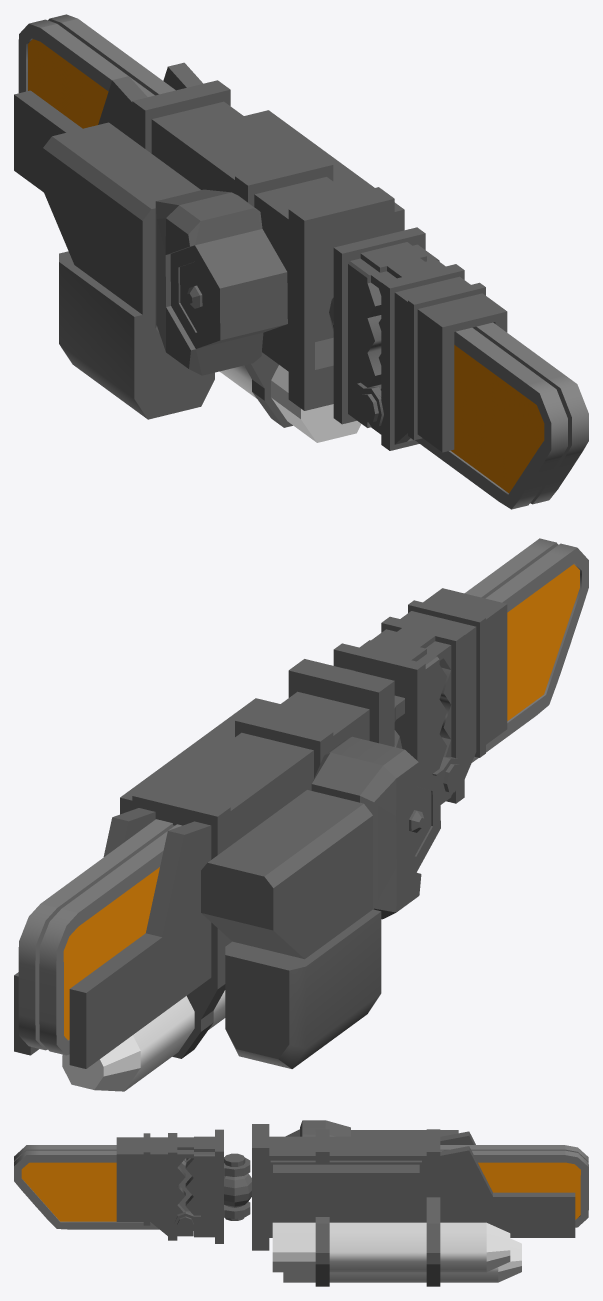
The model's file is ChainsawRevisedUV4.fbx.
The picture shows the model from 3 angles, top to bottom: view 1: azimuth 30°, elevation 25°; view 2: azimuth 150°, elevation 25°; view 3: azimuth 270°, elevation 25°; orthographic projection. The views are drawn at different scales.
Visible parts, largest first — view 1: Engine, Chassis, Break_Sheath, WristCasing, Chain_Tip (×2), BladeExt (×2), Chain_Top (×4), BladeTip, Tanks, ChainBack, Chain_Bottom, BladeBack; view 2: Engine, Chassis, Break_Sheath, WristCasing, ChainBack (×2), BladeExt (×2), Tanks, Chain_Top (×4), BladeTip, Chain_Tip (×2), BladeBack; view 3: Chassis, Tanks, Break_Sheath, WristCasing, BladeExt (×2), BladeTip, Chain_Tip (×2), Chain_Top (×3), Engine, Wrist_Joint, ChainBack, Chain_Bottom (+1 smaller).
Boxes of the visible parts, x1,y1,x2,y2 form: Engine: (43, 122, 287, 419); Chassis: (14, 62, 404, 427); Break_Sheath: (369, 258, 507, 452); WristCasing: (333, 227, 439, 427); Chain_Tip (×2): (489, 347, 588, 509); BladeExt (×2): (42, 43, 491, 479); Chain_Top (×4): (40, 19, 526, 369); BladeTip: (491, 372, 544, 493); Tanks: (220, 365, 361, 442); ChainBack: (18, 19, 56, 93); Chain_Bottom: (415, 438, 490, 494); BladeBack: (28, 39, 42, 98); Engine: (201, 736, 440, 1068); Chassis: (14, 659, 394, 1068); Break_Sheath: (371, 588, 507, 804); WristCasing: (333, 637, 462, 797); ChainBack (×2): (18, 904, 78, 1055); BladeExt (×2): (76, 600, 524, 983); Tanks: (62, 990, 225, 1091); Chain_Top (×4): (41, 580, 526, 926); BladeTip: (525, 564, 579, 707); Chain_Tip (×2): (489, 538, 588, 722); BladeBack: (63, 929, 76, 1039); Chassis: (252, 1124, 575, 1286); Tanks: (272, 1222, 521, 1282); Break_Sheath: (116, 1133, 193, 1240); WristCasing: (174, 1129, 250, 1243); BladeExt (×2): (81, 1162, 565, 1221); BladeTip: (21, 1162, 80, 1221); Chain_Tip (×2): (14, 1145, 80, 1229); Chain_Top (×3): (81, 1145, 565, 1162); Engine: (285, 1120, 458, 1136); Wrist_Joint: (224, 1173, 251, 1207); ChainBack: (565, 1150, 588, 1227); Chain_Bottom: (81, 1221, 159, 1229).
Size of the model in its own units: 0.3649 by 0.3767 by 1.4.
